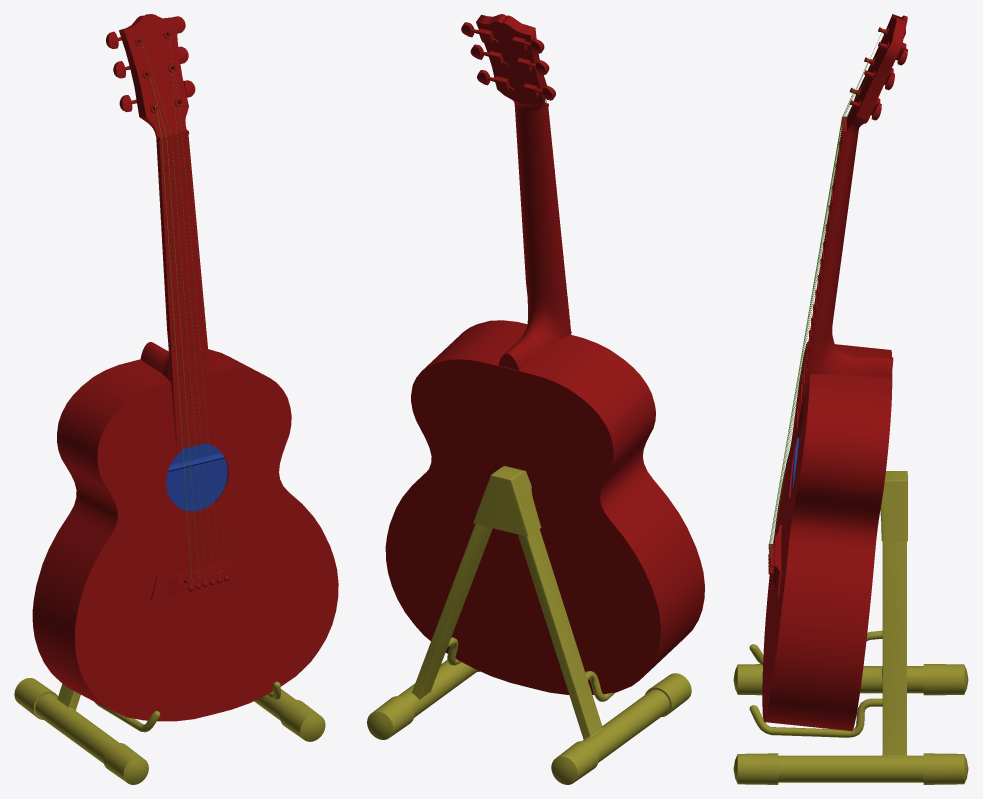
File: GuitarModel.FBX
3 renders of one model, left to right at view 1: azimuth 30°, elevation 25°; view 2: azimuth 150°, elevation 25°; view 3: azimuth 270°, elevation 25°, orthographic. The views are drawn at different scales.
Parts seen in each view (by area): view 1: body1_low, fretboard_low, stand_low, body2_low, bridge_low, strings_low, frets_low; view 2: body1_low, stand_low, fretboard_low; view 3: body1_low, stand_low, fretboard_low, strings_low, frets_low, bridge_low.
Part boxes in pixels (bbox=[...]): body1_low: bbox=[32, 349, 338, 721]; fretboard_low: bbox=[119, 14, 215, 448]; stand_low: bbox=[14, 678, 325, 784]; body2_low: bbox=[166, 443, 227, 511]; bridge_low: bbox=[151, 553, 258, 602]; strings_low: bbox=[139, 32, 226, 585]; frets_low: bbox=[160, 156, 214, 439]; body1_low: bbox=[385, 320, 704, 694]; stand_low: bbox=[367, 466, 691, 784]; fretboard_low: bbox=[476, 14, 571, 370]; body1_low: bbox=[762, 342, 892, 731]; stand_low: bbox=[733, 471, 968, 784]; fretboard_low: bbox=[796, 14, 906, 437]; strings_low: bbox=[768, 29, 884, 569]; frets_low: bbox=[797, 142, 839, 429]; bridge_low: bbox=[769, 524, 781, 596].
Bounding box in the file's own units: 43.21 × 32.16 × 109.
